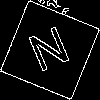N: (25, 25, 77, 82)
